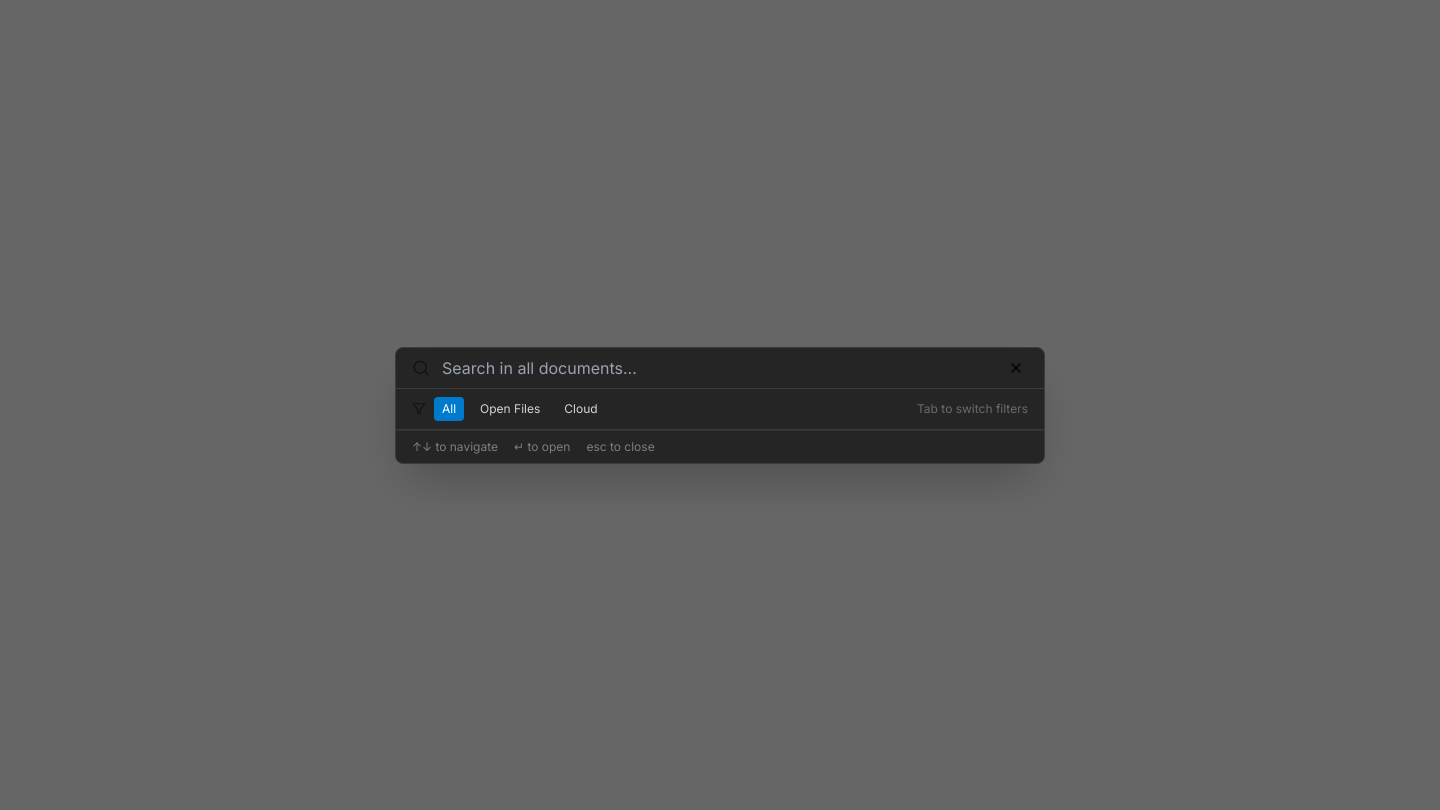
Test case: SearchModal › Filter Functionality › should filter to open files only
Note: Click "Open Files" filter
Click the button "Open Files".
click(510, 408)  # box [472,396,548,420]
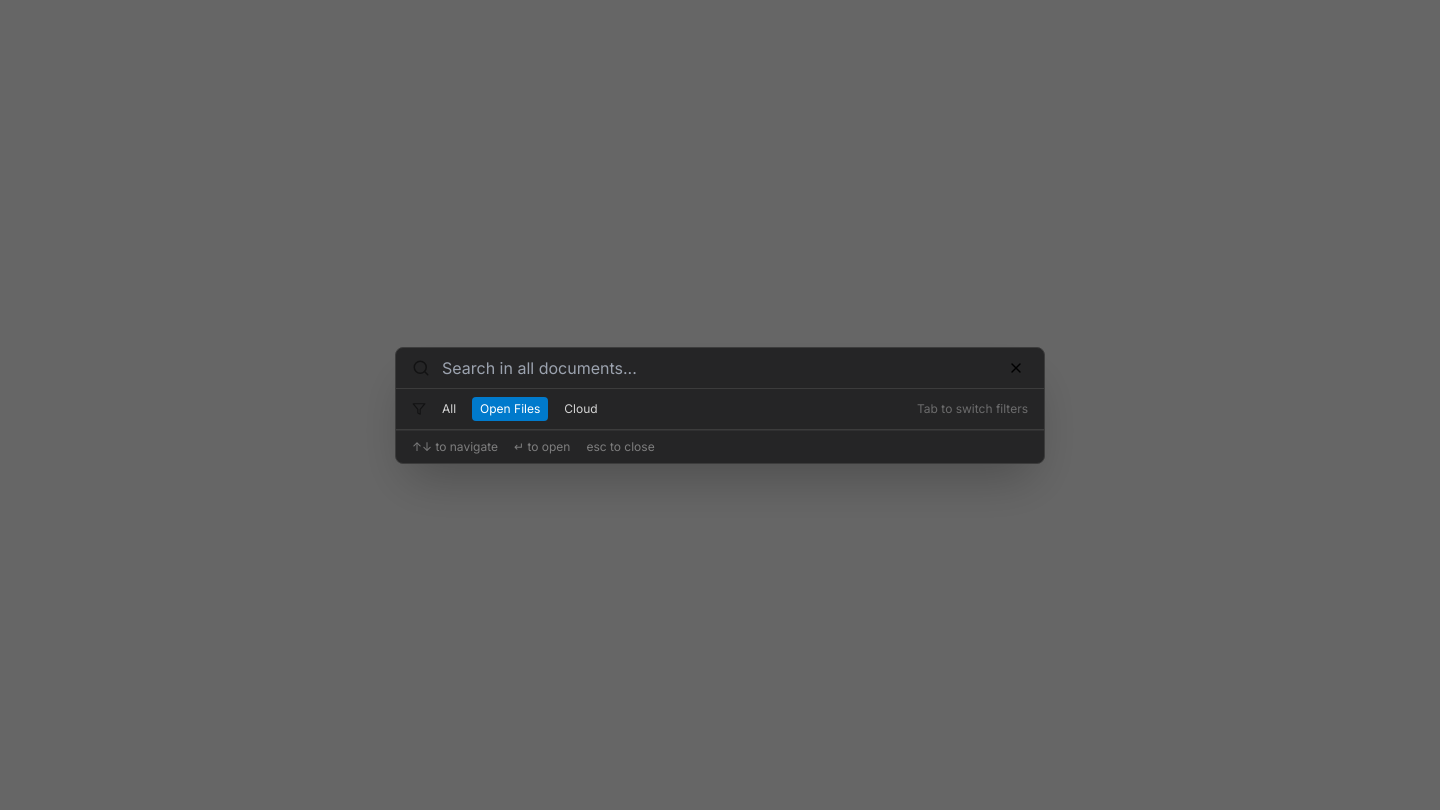
Type "Hello" into the field with placeholder "Search in all documents...".
click(719, 368); type("Hello")  # box [442,356,996,380]
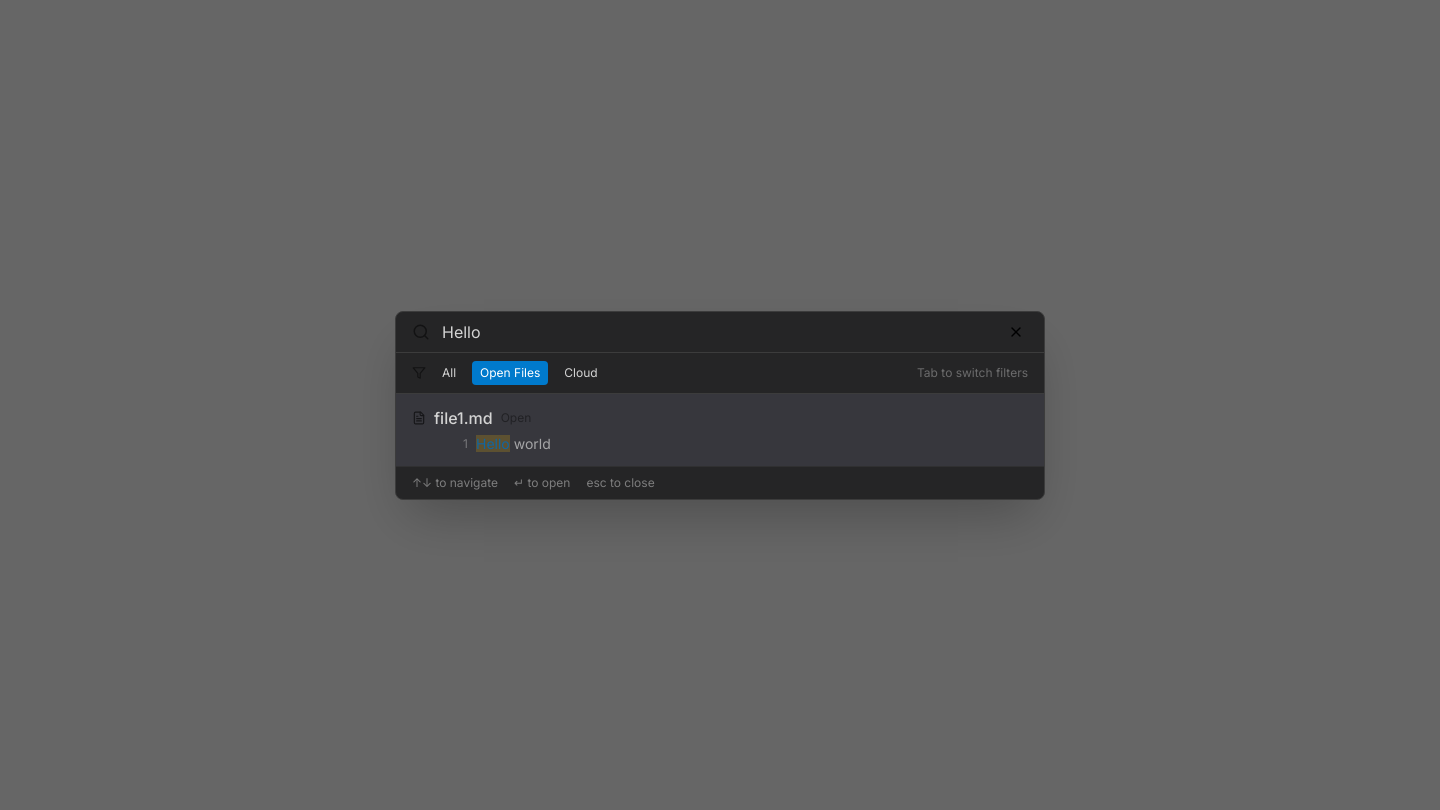
Result: the text "file1.md" is shown at [434,406,493,430]
